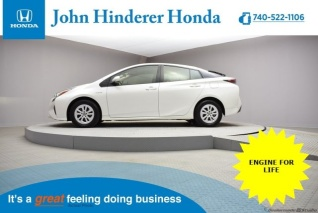Toyota Prius: (47, 60, 242, 131)
